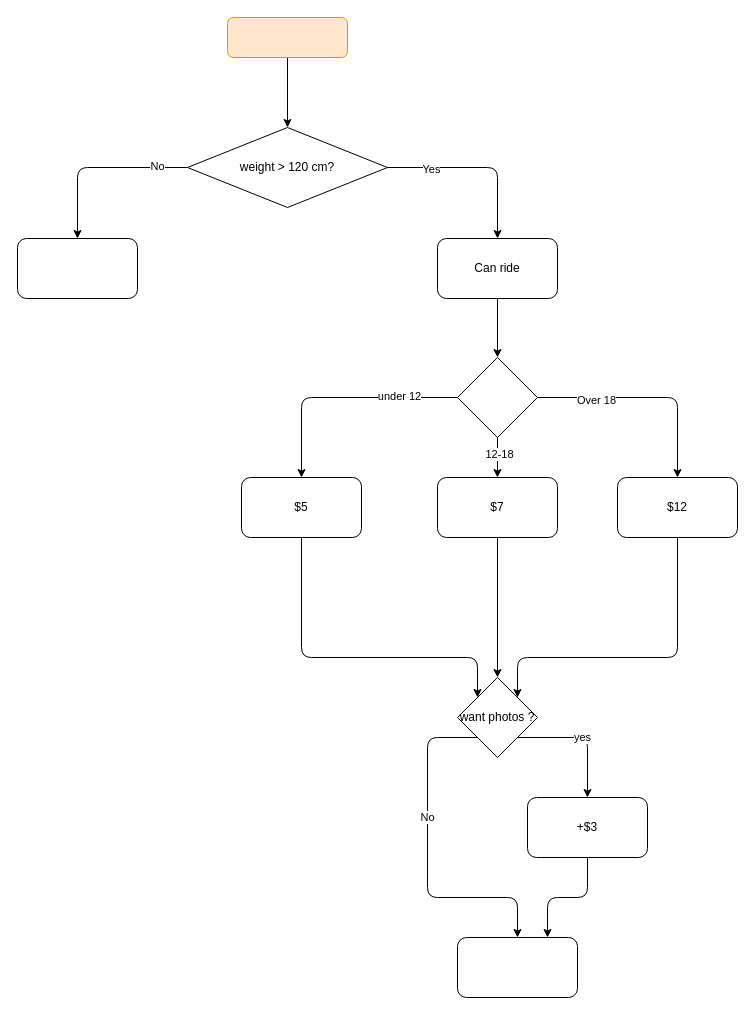
This 755x1015 diagram has some shape labels left out. Here are the shapes that lost their labels. From the top down, the centre of each, then its label:
At pixel 287 37: "Start".
At pixel 77 268: "Can't ride".
At pixel 497 397: "age".
At pixel 517 967: "the total bill is $x".
